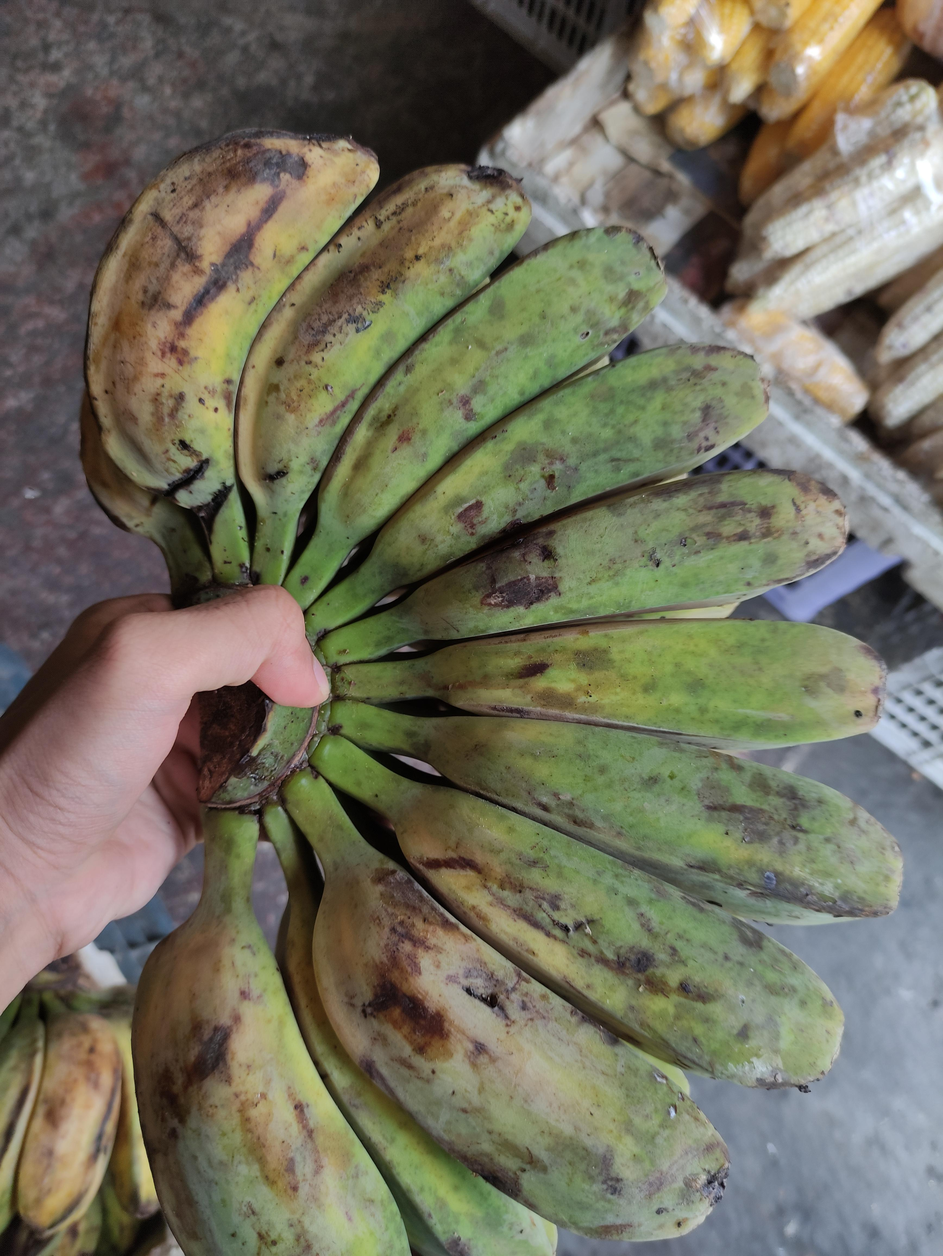underripe: (83, 133, 903, 1256)
